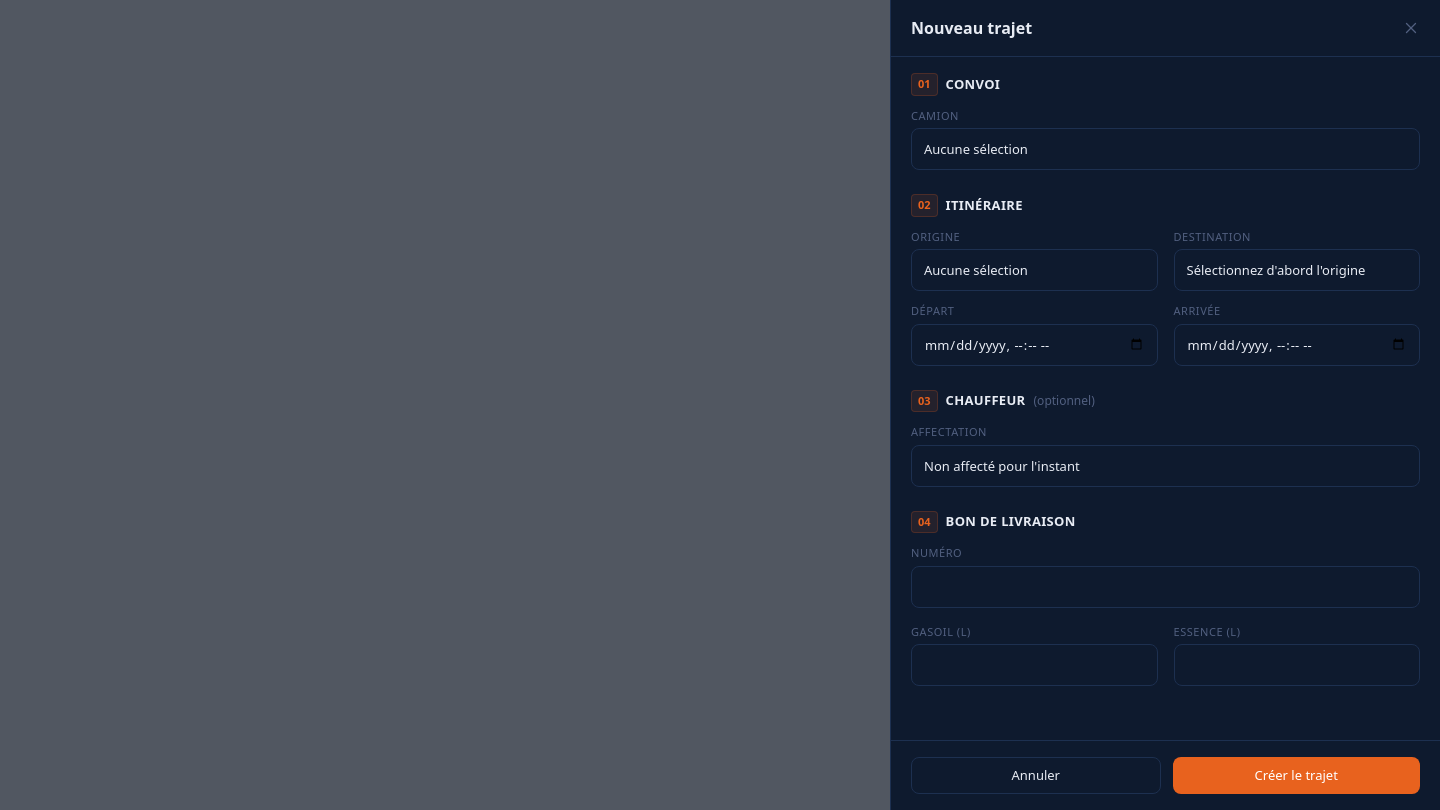
Test: NewTripDrawer › when open › pairing card › shows — for the tank summary when the selected truck has no tank
The width and height of the screenshot is (1440, 810).
Focus the dropdown labelled "Camion" at (1166, 149), box left=911, top=128, right=1420, bottom=170
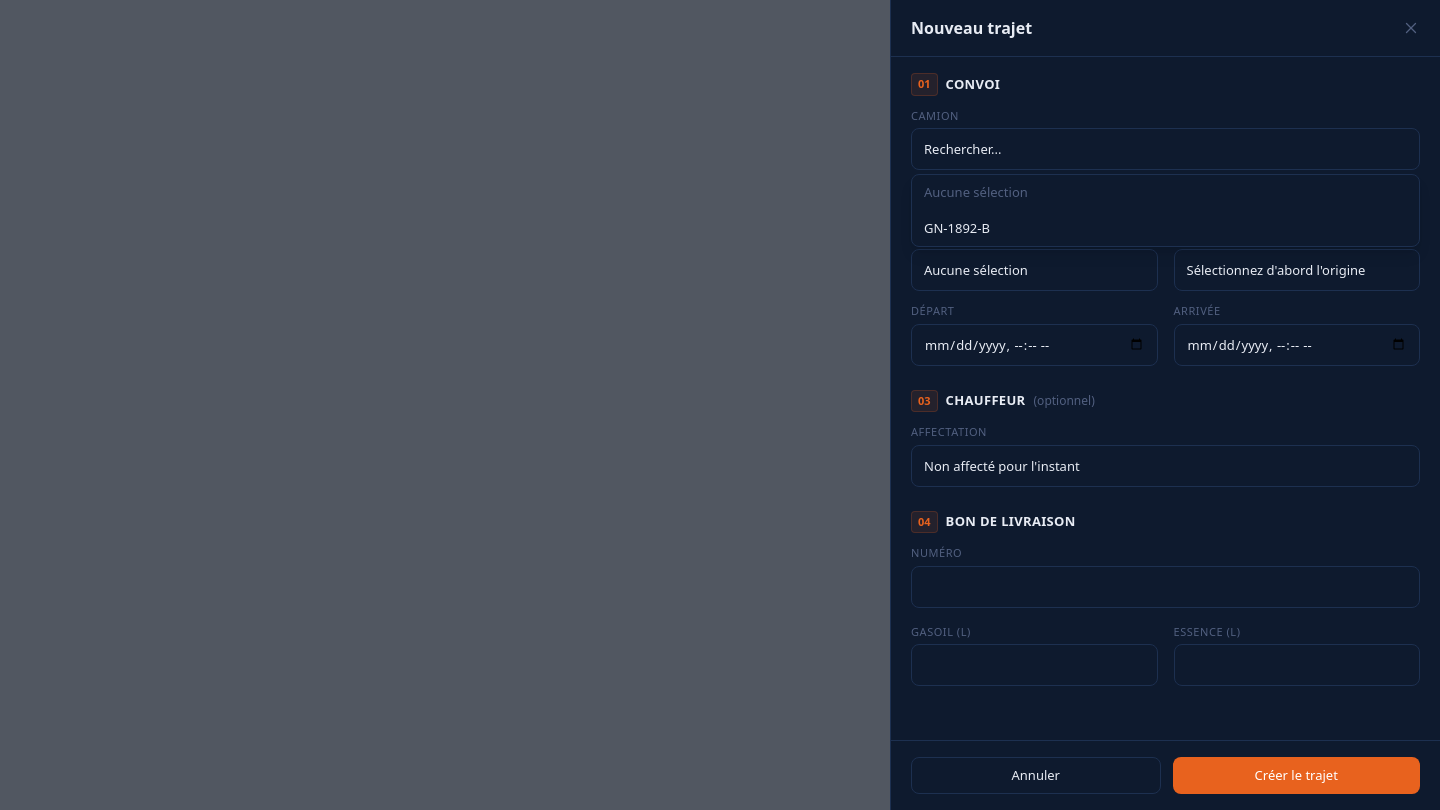
Now the button "GN-1892-B" is shown
Press the mouse on the button "GN-1892-B" at (957, 228), box left=912, top=210, right=1419, bottom=246
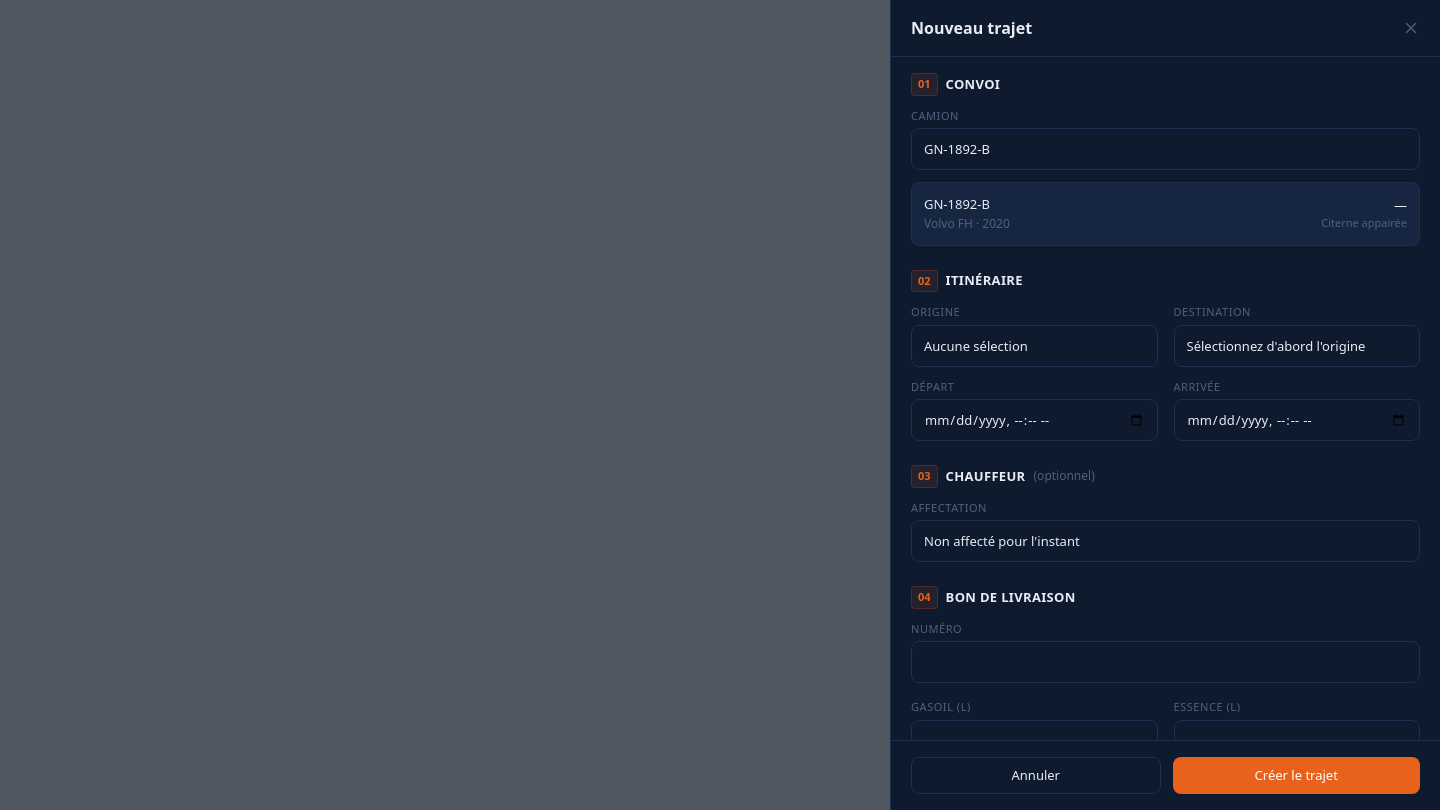
Now the text "—" is shown, box left=1394, top=196, right=1407, bottom=214
